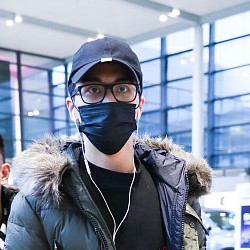mask: (68, 99, 142, 158)
